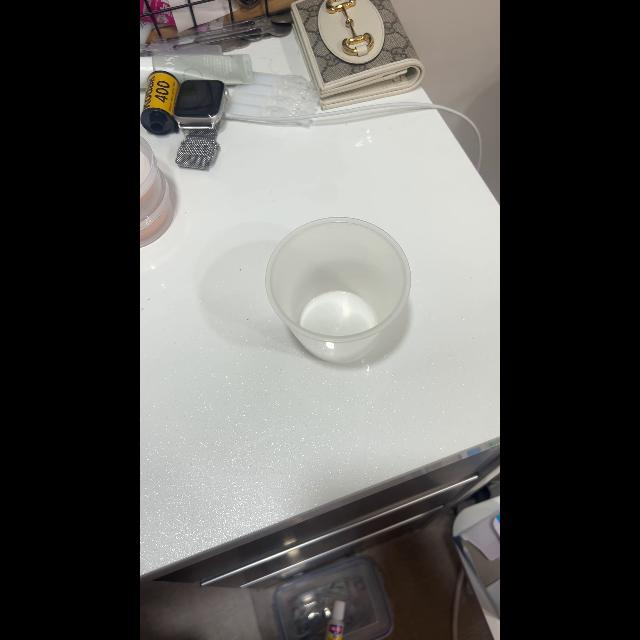clean: (272, 211, 414, 373)
